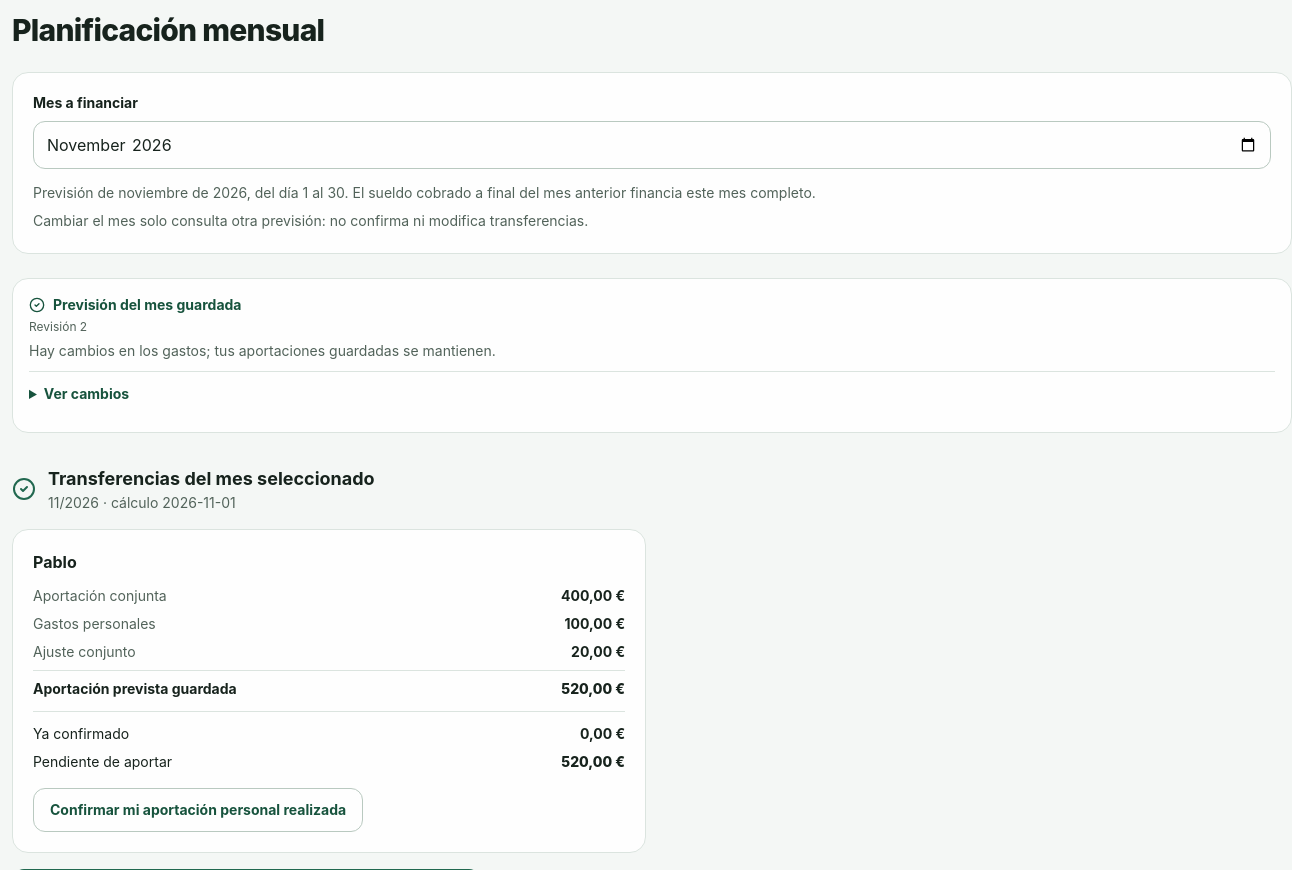
PlanningPage salary month forecast › keeps a negative deviation and unavailable personal history inside the optional disclosure
expect the text "Diferencia conjunta:" is not shown: met
Click the heading "Ver cambios" at (86, 394), box [44, 385, 129, 402]
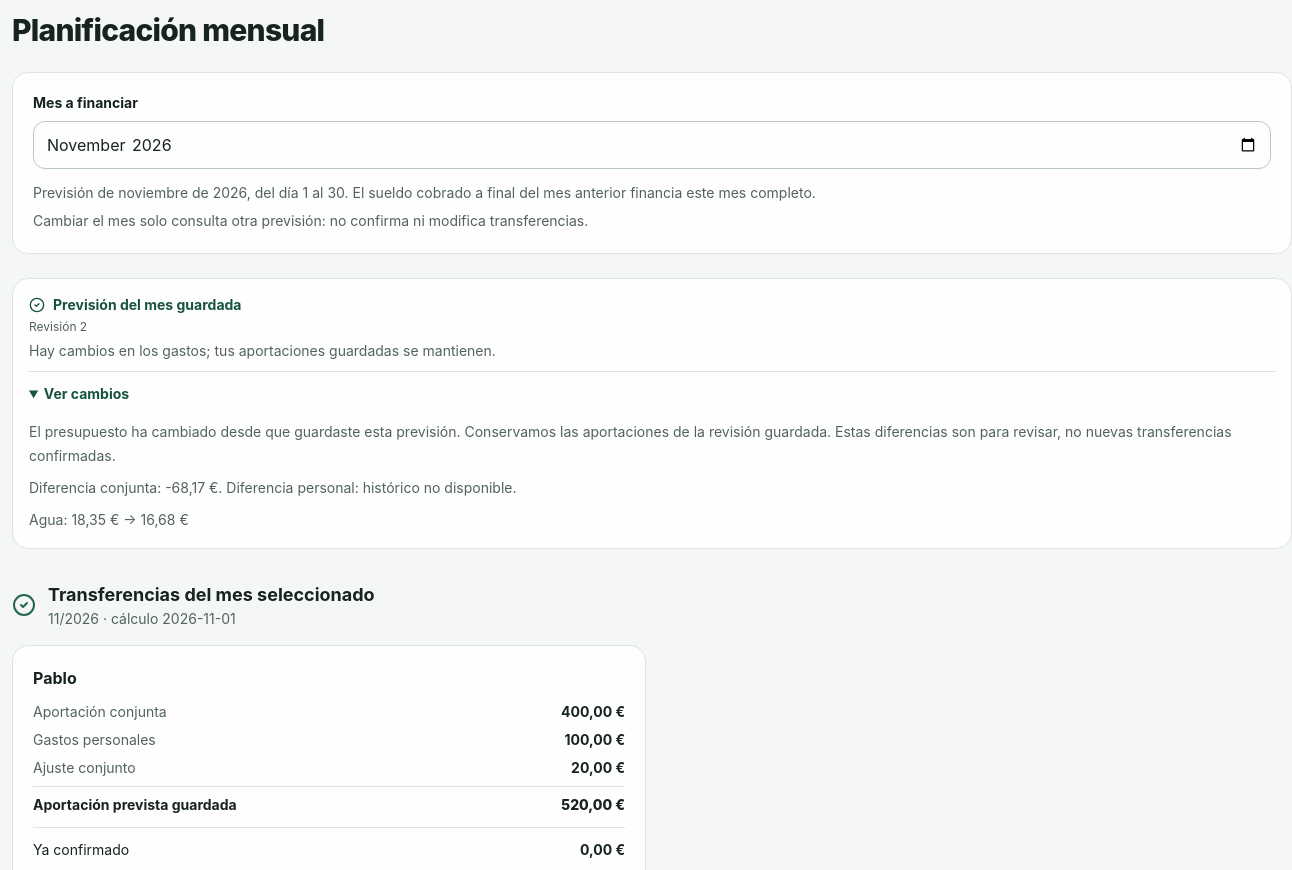
expect the text "Diferencia conjunta:" shows "-68,17 €": met, box [165, 479, 218, 496]
expect the text "Diferencia conjunta:" shows "histórico no disponible": met, box [363, 479, 512, 496]
expect the text "Conservamos las aportaciones de la revisión guardada" is shown: met, box [464, 423, 831, 440]
